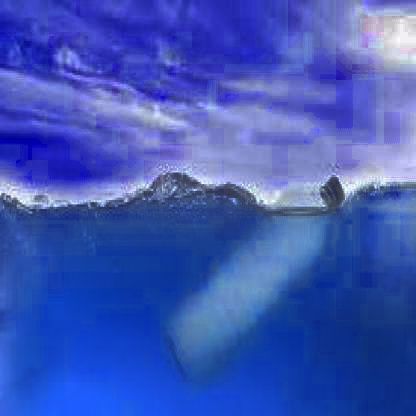pbottle: (150, 166, 355, 393)
